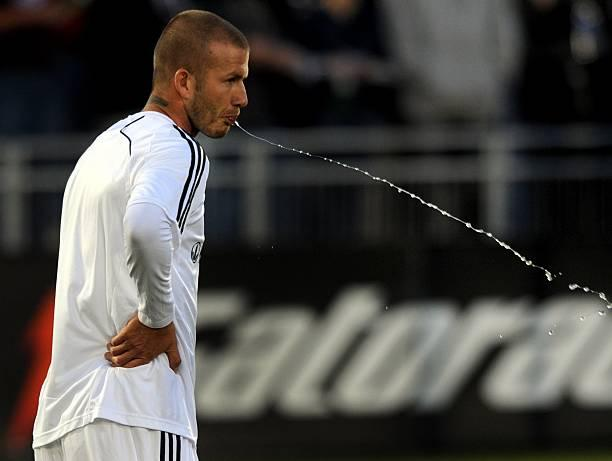Spitting: (113, 9, 330, 164)
